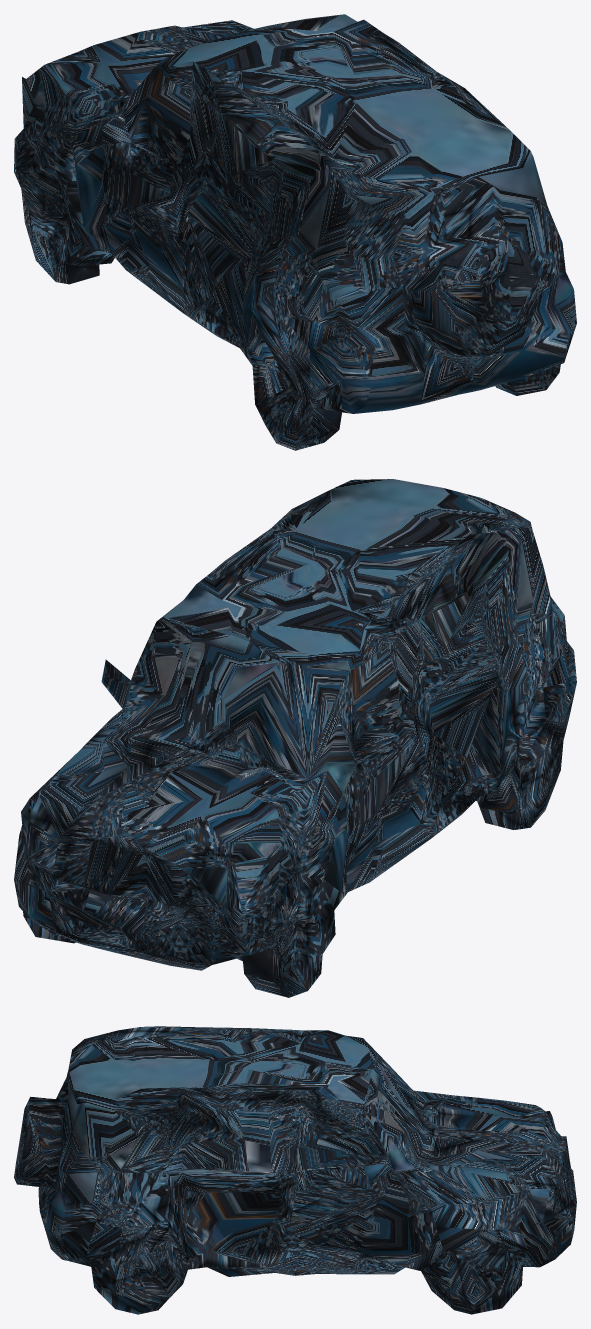
The model's file is suv.far.glb.
3 views of the same model, one above another, from view 1: azimuth 30°, elevation 25°; view 2: azimuth 150°, elevation 25°; view 3: azimuth 270°, elevation 25° (orthographic). The views are drawn at different scales.
Size of the model in its own units: 0.8631 by 0.8011 by 1.9.
Materials: 1 (1 with a texture image).
